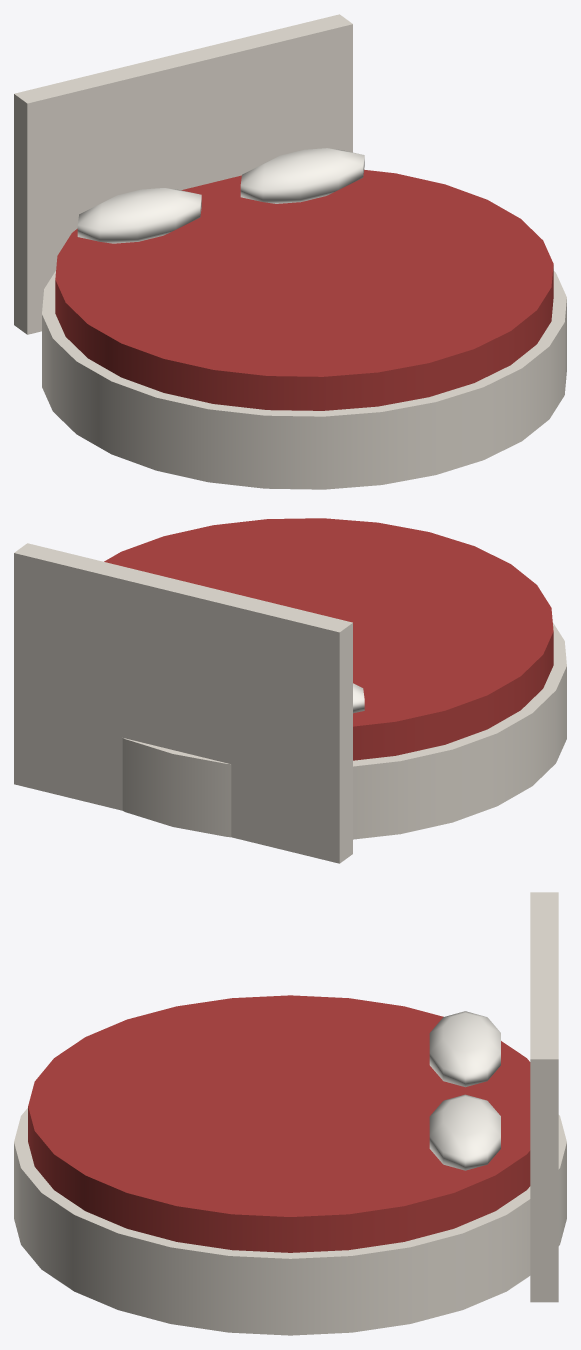
The model's file is bed_round.glb.
3 views of the same model, one above another, from view 1: azimuth 30°, elevation 25°; view 2: azimuth 150°, elevation 25°; view 3: azimuth 270°, elevation 25° (orthographic). The views are drawn at different scales.
Parts seen in each view (by area): view 1: round_bed; view 2: round_bed; view 3: round_bed.
Boxes of the visible parts, x1,y1,x2,y2 form: round_bed: (14,14,566,489); round_bed: (14,518,566,863); round_bed: (14,892,566,1335).
Size of the model in its own units: 1.96 by 0.95 by 1.96.
